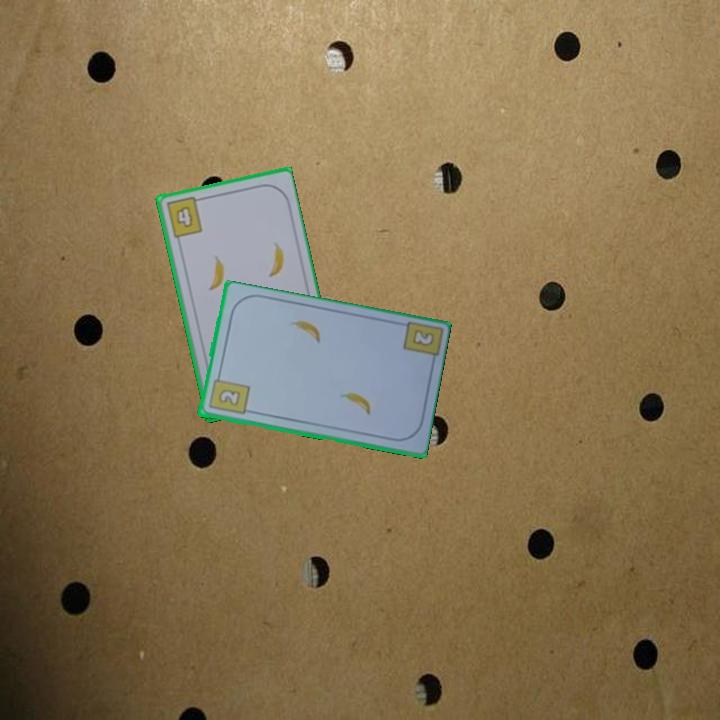2b: (205, 370, 252, 418), (411, 328, 435, 348)
4b: (163, 193, 205, 241)
